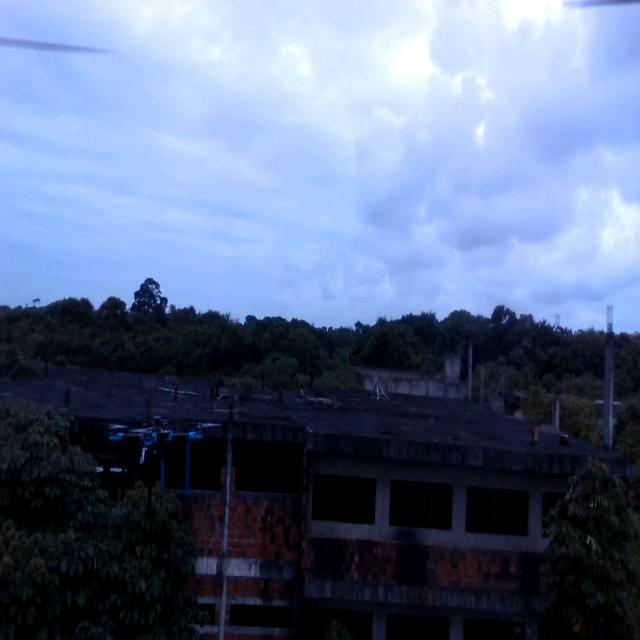-uav-: (89, 390, 206, 538)
